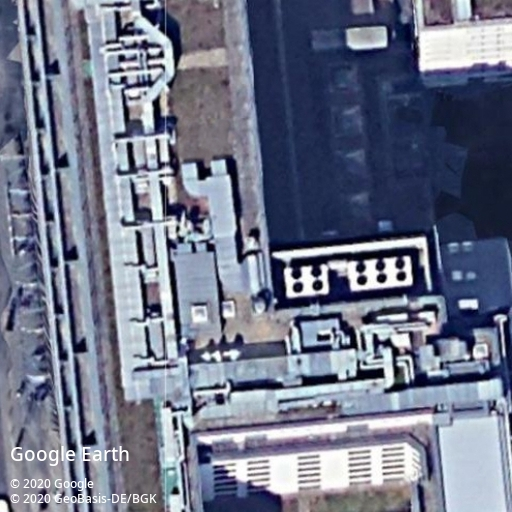Chiller: (346, 255, 414, 292), (283, 264, 330, 298)
